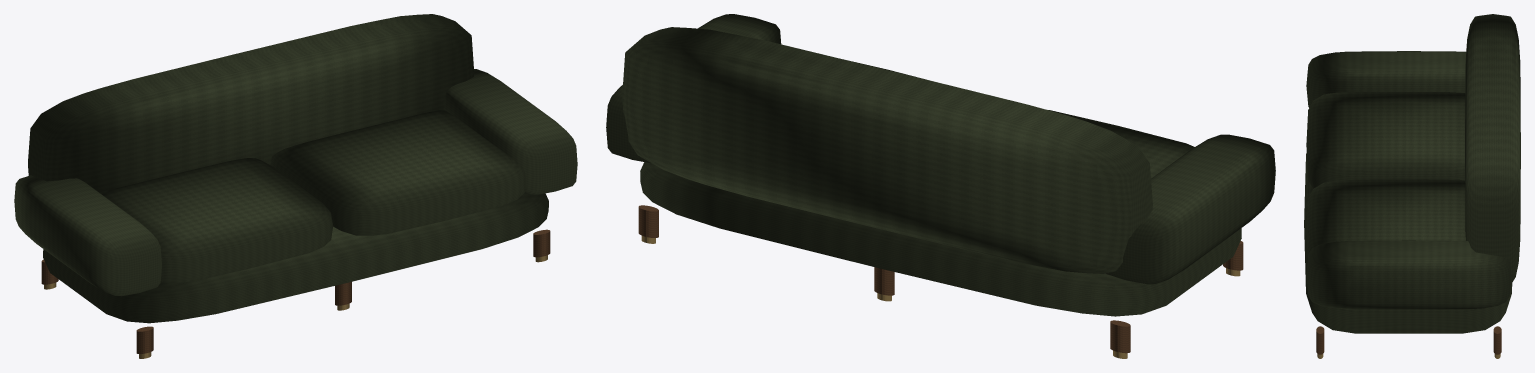
3 views of the same model, side by side, from view 1: azimuth 30°, elevation 25°; view 2: azimuth 150°, elevation 25°; view 3: azimuth 270°, elevation 25° (orthographic). The views are drawn at different scales.
Visible parts, largest first — view 1: 4 backrest, 3 seat_cushion_right, 2 seat_cushion_left, 1 base_frame, 5 armrest_left, 6 armrest_right, 9 leg_front_right, 7 leg_front_left; view 2: 4 backrest, 1 base_frame, 5 armrest_left, 6 armrest_right, 2 seat_cushion_left, 10 leg_back_left, 12 leg_back_right, 11 leg_back_center; view 3: 2 seat_cushion_left, 4 backrest, 6 armrest_right, 3 seat_cushion_right, 5 armrest_left, 1 base_frame, 9 leg_front_right, 12 leg_back_right.
Part boxes in pixels (left/top/right/bottom): 4 backrest: left=28, top=14, right=474, bottom=192; 3 seat_cushion_right: left=271, top=110, right=525, bottom=235; 2 seat_cushion_left: left=99, top=158, right=333, bottom=282; 1 base_frame: left=43, top=192, right=548, bottom=323; 5 armrest_left: left=14, top=175, right=161, bottom=296; 6 armrest_right: left=444, top=69, right=577, bottom=194; 9 leg_front_right: left=533, top=229, right=550, bottom=257; 7 leg_front_left: left=136, top=326, right=153, bottom=353; 4 backrest: left=622, top=27, right=1152, bottom=273; 1 base_frame: left=640, top=162, right=1241, bottom=316; 5 armrest_left: left=1106, top=134, right=1275, bottom=284; 6 armrest_right: left=606, top=14, right=781, bottom=163; 2 seat_cushion_left: left=1048, top=110, right=1194, bottom=178; 10 leg_back_left: left=1110, top=320, right=1130, bottom=353; 12 leg_back_right: left=638, top=205, right=658, bottom=237; 11 leg_back_center: left=874, top=267, right=894, bottom=295; 2 seat_cushion_left: left=1306, top=92, right=1465, bottom=188; 4 backrest: left=1465, top=14, right=1520, bottom=284; 6 armrest_right: left=1306, top=240, right=1511, bottom=309; 3 seat_cushion_right: left=1306, top=178, right=1465, bottom=259; 5 armrest_left: left=1306, top=51, right=1466, bottom=107; 1 base_frame: left=1304, top=153, right=1512, bottom=333; 9 leg_front_right: left=1316, top=326, right=1324, bottom=354; 12 leg_back_right: left=1493, top=326, right=1501, bottom=354.
Size of the model in its own units: 2.7 by 1 by 1.15.
Materials: 3 (2 with a texture image).
